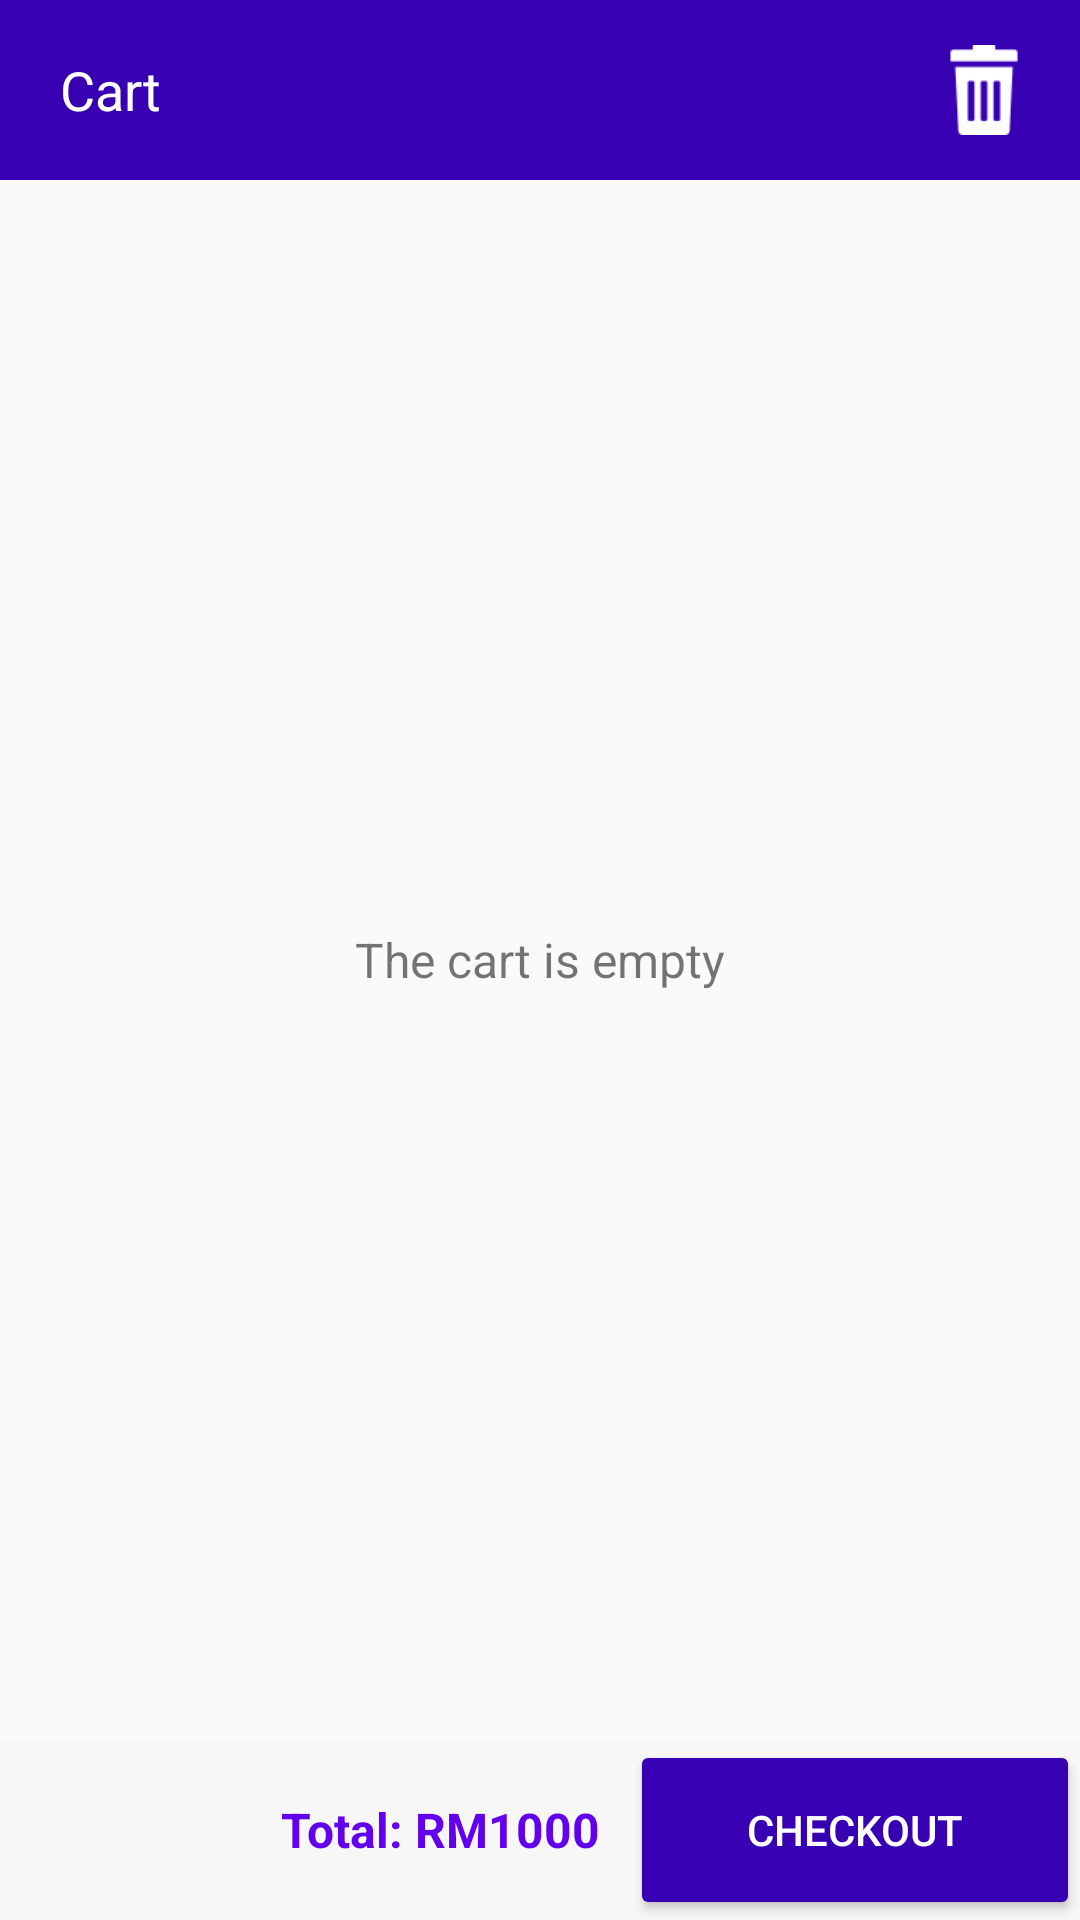

Locate icon controls on the screen. Image size 1080w x 1920h, boxes as rect(x1, y1, x2, y2).
delete: rect(950, 45, 1018, 135)
